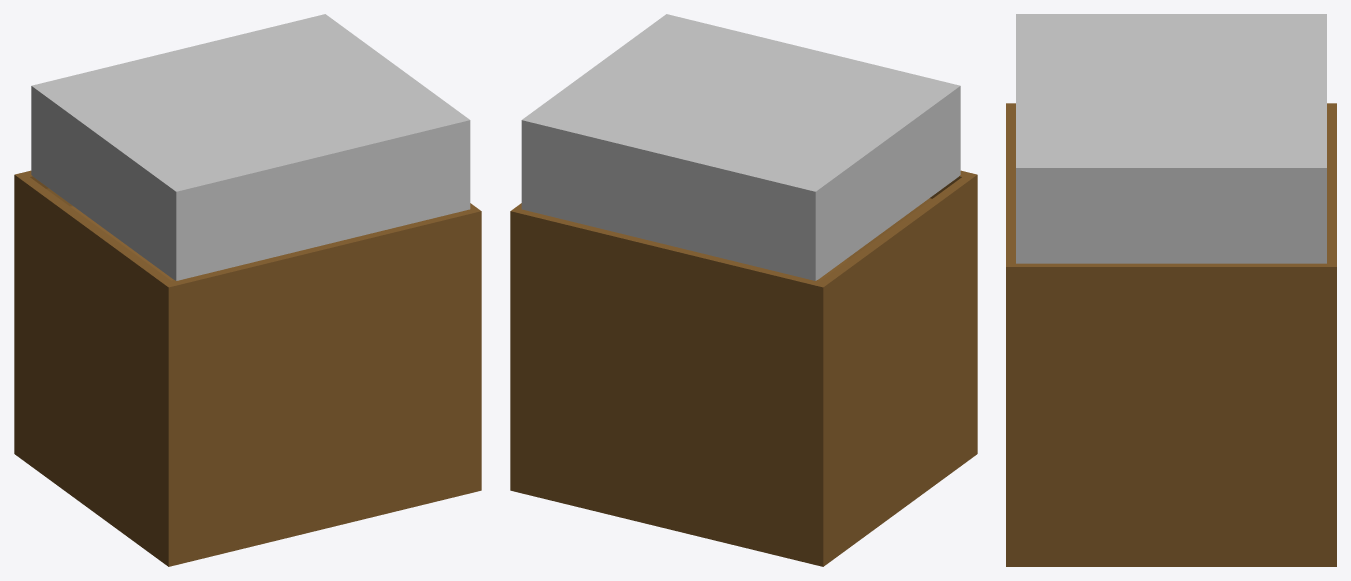
Rendered from DISPLAY 1.fbx.
The picture shows the model from 3 angles, left to right: view 1: azimuth 30°, elevation 25°; view 2: azimuth 150°, elevation 25°; view 3: azimuth 270°, elevation 25°; orthographic projection. The views are drawn at different scales.
Visible parts, largest first — view 1: Cube, Cube_1; view 2: Cube, Cube_1; view 3: Cube, Cube_1.
Part boxes in pixels (left/top/right/bottom): Cube: left=14, top=170, right=481, bottom=566; Cube_1: left=31, top=14, right=470, bottom=280; Cube: left=510, top=170, right=977, bottom=566; Cube_1: left=521, top=14, right=960, bottom=280; Cube: left=1006, top=103, right=1336, bottom=566; Cube_1: left=1016, top=14, right=1326, bottom=263.
Bounding box in the file's own units: 234 × 264 × 200.
